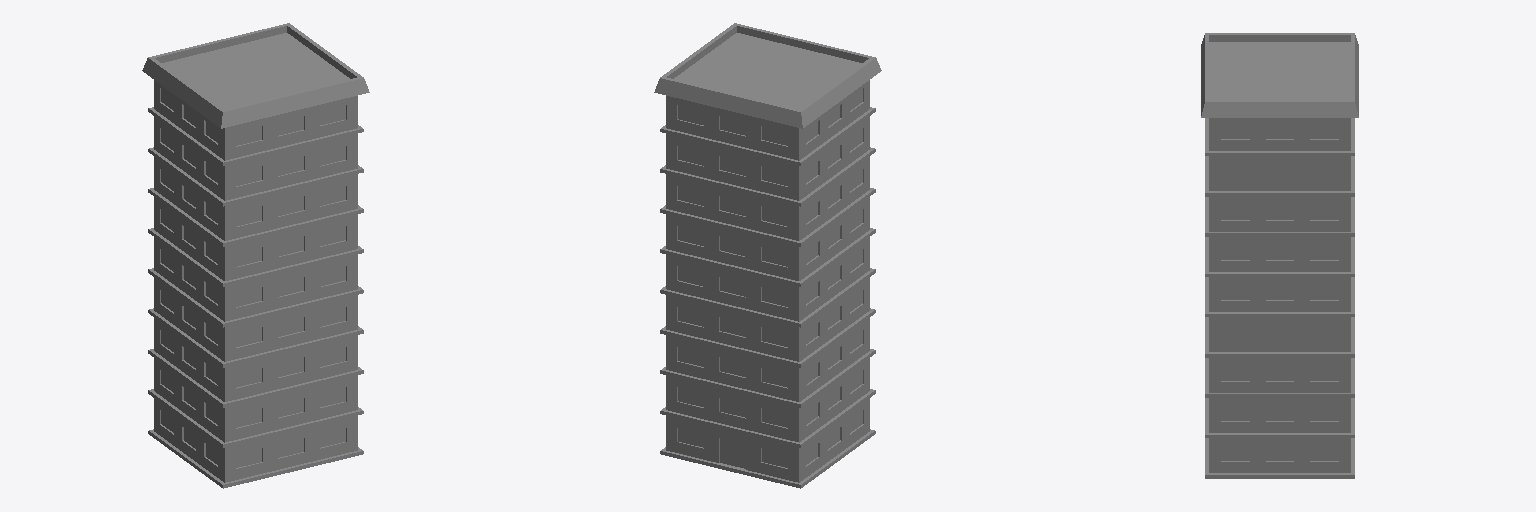
The model's file is tower.obj.
3 renders of one model, left to right at view 1: azimuth 30°, elevation 25°; view 2: azimuth 150°, elevation 25°; view 3: azimuth 270°, elevation 25°, orthographic.
Visible parts, largest first — view 1: building_001; view 2: building_001; view 3: building_001.
Boxes of the visible parts, x1,y1,x2,y2 form: building_001: [142, 23, 369, 488]; building_001: [654, 23, 881, 488]; building_001: [1201, 33, 1358, 478].
Bounding box in the file's own units: 14.73 × 35.64 × 13.54.